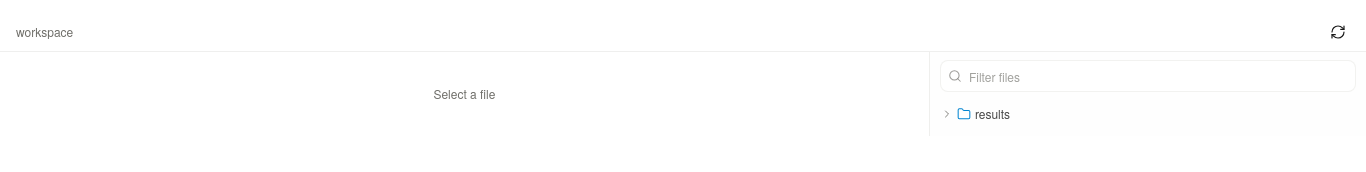
Scenario: WorkspacePanel › keeps the spinner for a replacement child request
Later steps or results of the test are not shown.
Click the button "results" at (993,114), box top-left (936, 100), bottom-right (1360, 128)
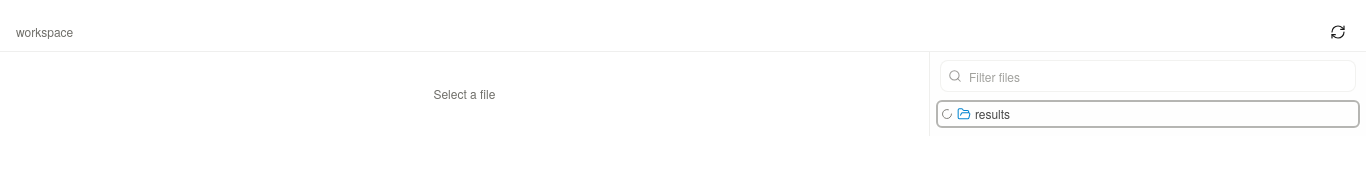
Click the button "results" at (993,114), box top-left (936, 100), bottom-right (1360, 128)
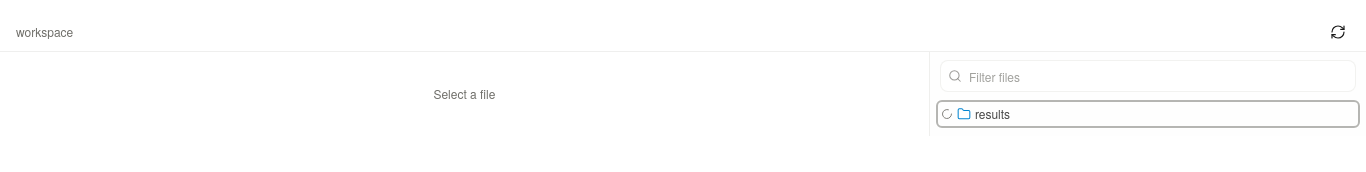
Click the button "results" at (993,114), box top-left (936, 100), bottom-right (1360, 128)
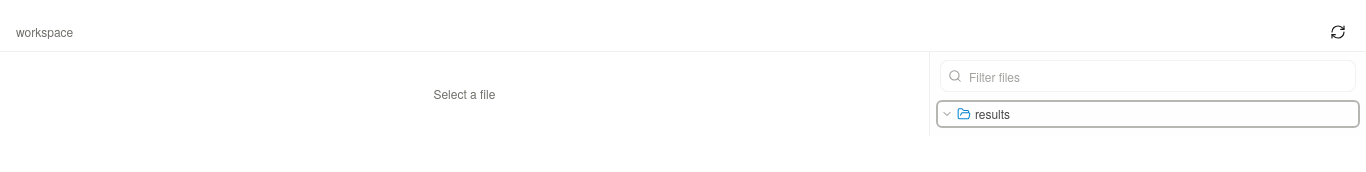
Expected: the icon with class "animate-spin" is gone
